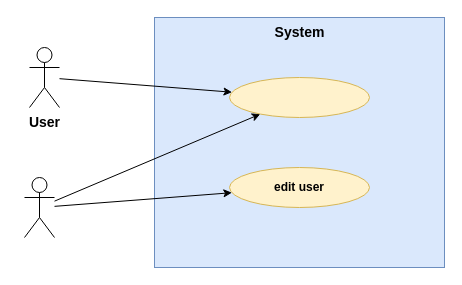
The diagram is 462 pixels wide and 285 high, and some of its shapes have lost their labels. Each missing label, with the box of its shape:
Admin: (24, 176, 54, 238)
User list: (228, 76, 370, 118)
